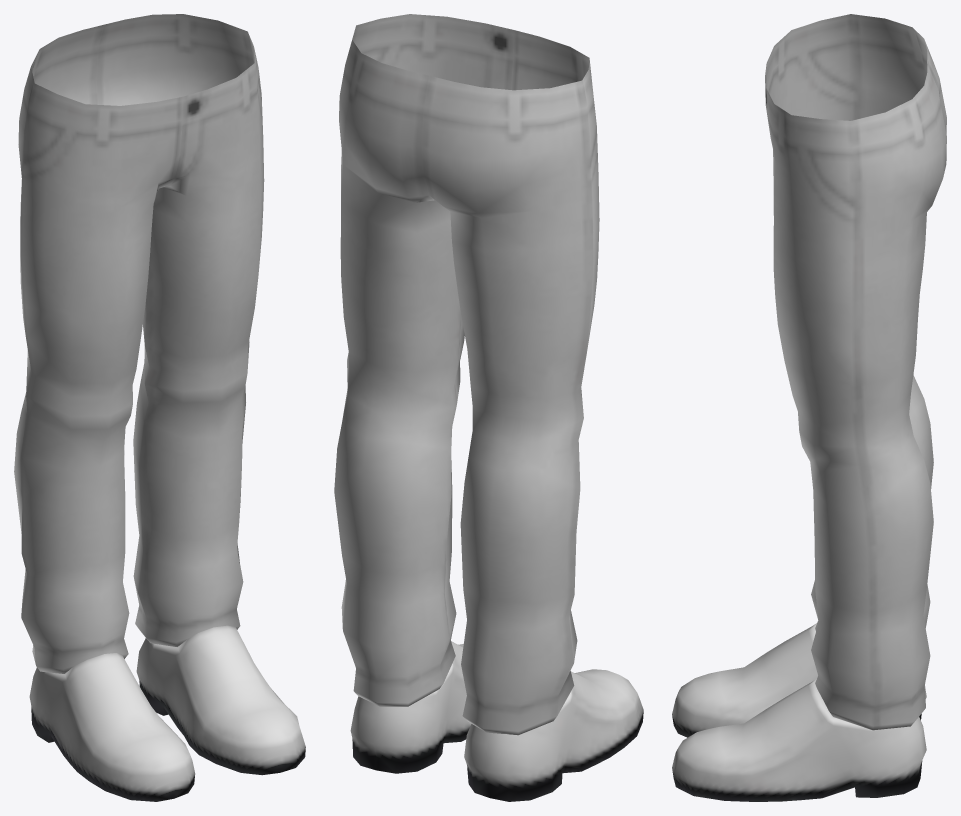
The model's file is tr0780_00_lwb03.gltf.
3 views of the same model, side by side, from view 1: azimuth 30°, elevation 25°; view 2: azimuth 150°, elevation 25°; view 3: azimuth 270°, elevation 25° (orthographic). The views are drawn at different scales.
Parts seen in each view (by area): view 1: lwb03_lowerbody_mesh_shape:lowerbody03, lwb03_shoes_mesh_shape:lowerbody03; view 2: lwb03_lowerbody_mesh_shape:lowerbody03, lwb03_shoes_mesh_shape:lowerbody03; view 3: lwb03_lowerbody_mesh_shape:lowerbody03, lwb03_shoes_mesh_shape:lowerbody03.
Boxes of the visible parts, x1,y1,x2,y2 form: lwb03_lowerbody_mesh_shape:lowerbody03: (14,14,264,673); lwb03_shoes_mesh_shape:lowerbody03: (29,625,305,801); lwb03_lowerbody_mesh_shape:lowerbody03: (334,14,599,735); lwb03_shoes_mesh_shape:lowerbody03: (350,641,643,801); lwb03_lowerbody_mesh_shape:lowerbody03: (765,14,946,730); lwb03_shoes_mesh_shape:lowerbody03: (672,623,926,801).
Size of what is drawn, in the model's own units: 0.3449 by 0.9313 by 0.336.
Materials: 1 (1 with a texture image).
